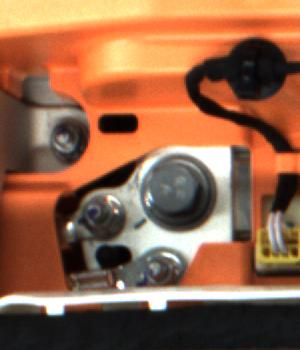nut_b: (137, 148, 219, 235)
screw_s: (81, 187, 119, 224), (140, 254, 181, 286), (46, 122, 78, 152)
